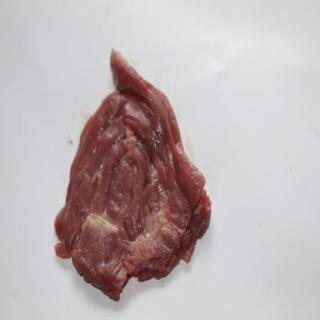Daging Sapi: (56, 46, 211, 302)
